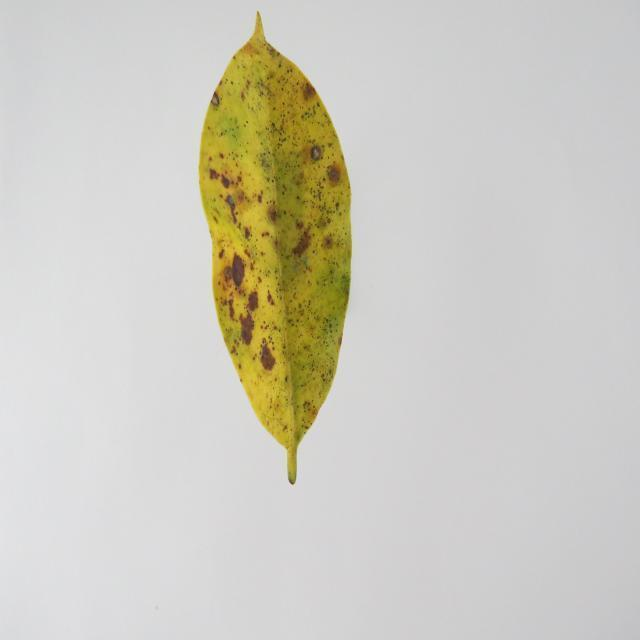DeficienciaNutricional-Nitrogeno: (202, 14, 350, 480)
